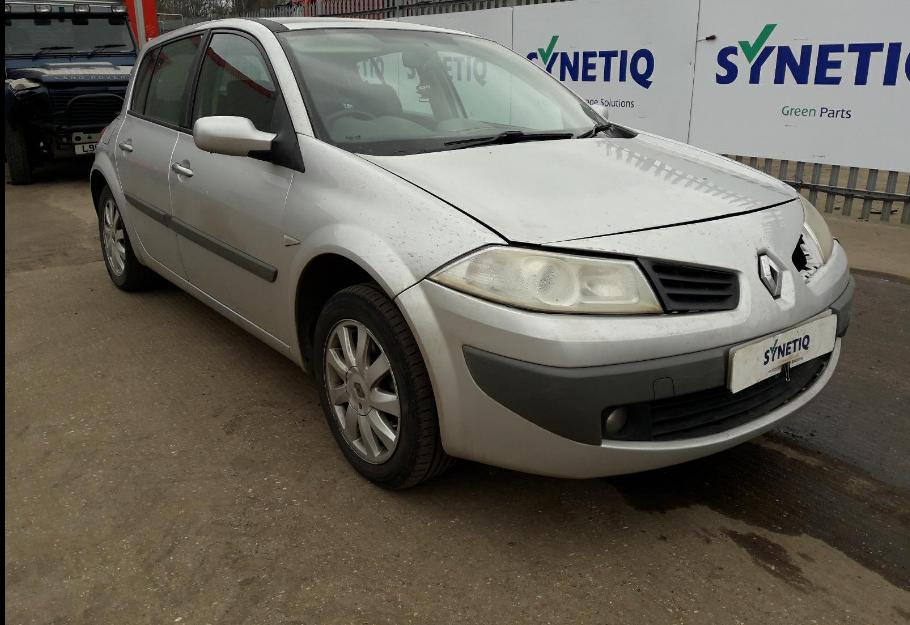Back-door: (114, 30, 211, 281)
Back-wheel: (98, 182, 155, 290)
Back-window: (131, 32, 204, 128)
Fender: (278, 132, 507, 372)
Front-bumper: (394, 196, 855, 480)
Front-door: (171, 29, 300, 343)
Front-wheel: (309, 282, 458, 490)
Front-window: (190, 30, 302, 172)
Grille: (649, 355, 830, 445)
Headlight: (426, 244, 664, 316), (800, 195, 834, 260)
Hood: (351, 125, 798, 242)
License-plate: (726, 311, 838, 394)
Mirror: (192, 115, 279, 153)
Quarter-panel: (89, 110, 146, 252)
Rocker-panel: (134, 247, 294, 362)
Roof: (237, 17, 475, 35)
Windshield: (274, 29, 628, 155)
